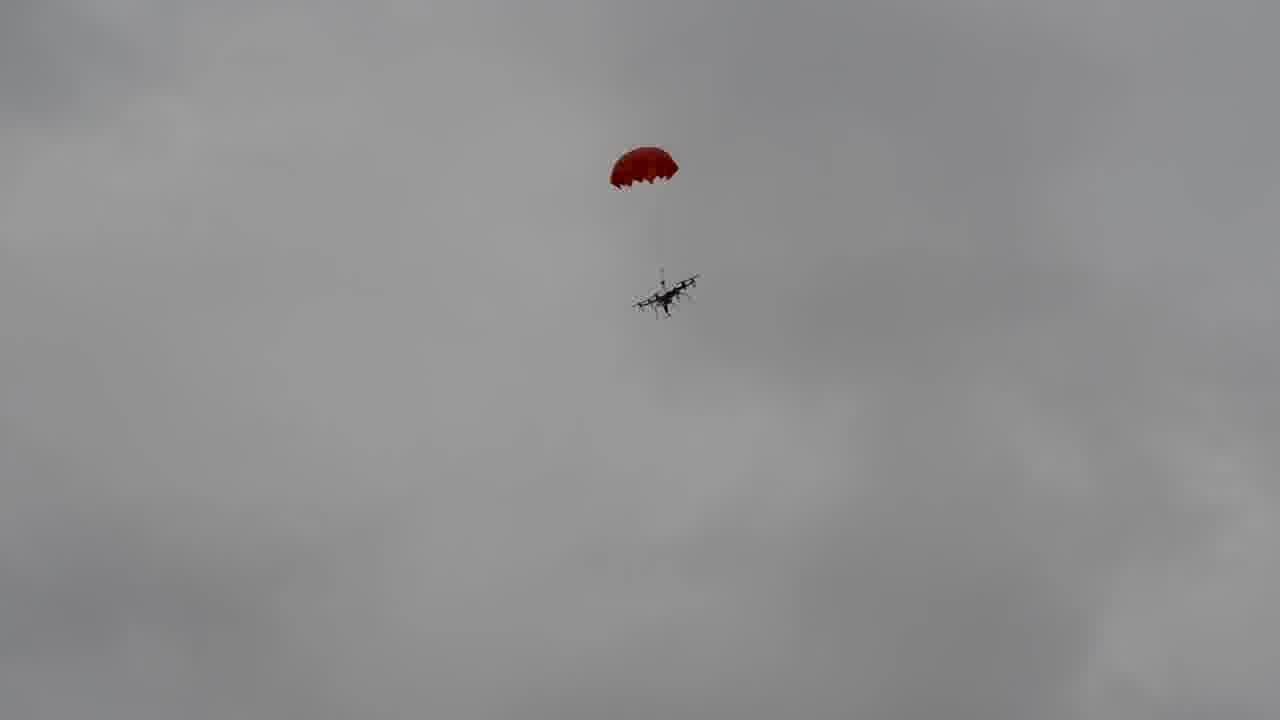drone: (616, 271, 710, 322)
